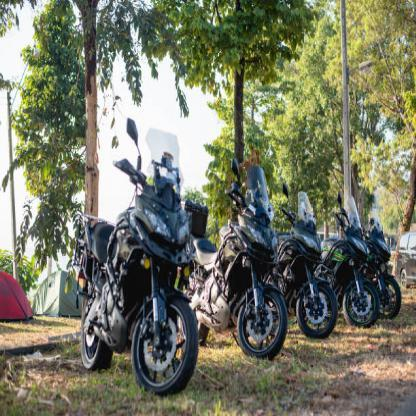Motorcycle: (73, 133, 198, 393), (195, 165, 291, 365), (282, 196, 338, 340), (335, 198, 382, 336), (368, 207, 406, 318)
